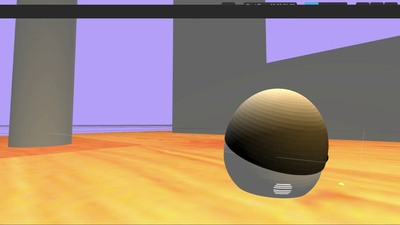mira_robot: (224, 88, 329, 198)
